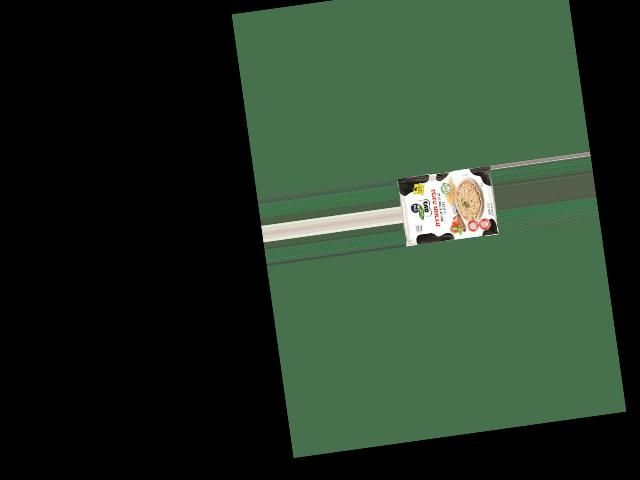cheese: (403, 164, 496, 257)
